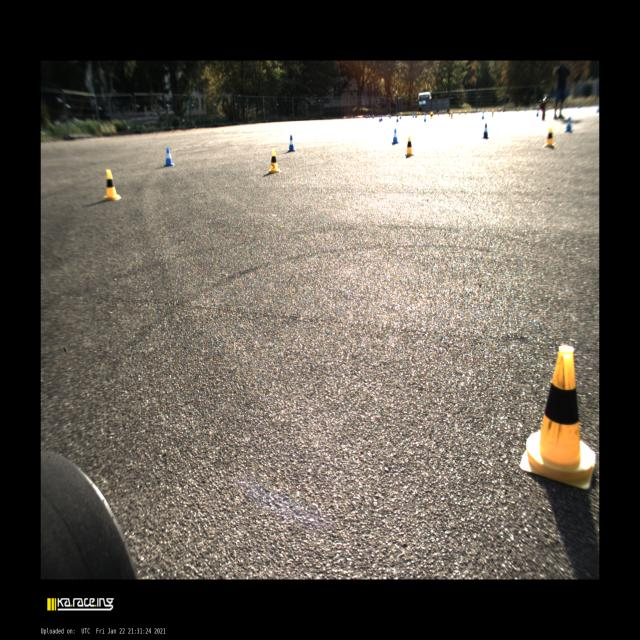blue_cone: (164, 147, 174, 166), (288, 134, 296, 152), (564, 117, 573, 132), (392, 128, 398, 144), (482, 124, 488, 138), (412, 112, 415, 118), (424, 114, 426, 122), (482, 112, 484, 120), (379, 115, 381, 122), (396, 115, 398, 122), (415, 112, 417, 119), (381, 115, 383, 121), (389, 114, 392, 118), (366, 114, 368, 119), (368, 114, 370, 118), (372, 114, 374, 118), (400, 114, 401, 119)
yellow_cone: (520, 345, 596, 488), (104, 170, 121, 200), (268, 148, 280, 172), (404, 136, 414, 156), (544, 128, 554, 146), (430, 112, 433, 119), (491, 110, 494, 117), (448, 111, 451, 117), (451, 111, 453, 119), (442, 110, 444, 115), (417, 112, 418, 117), (419, 111, 420, 116)
